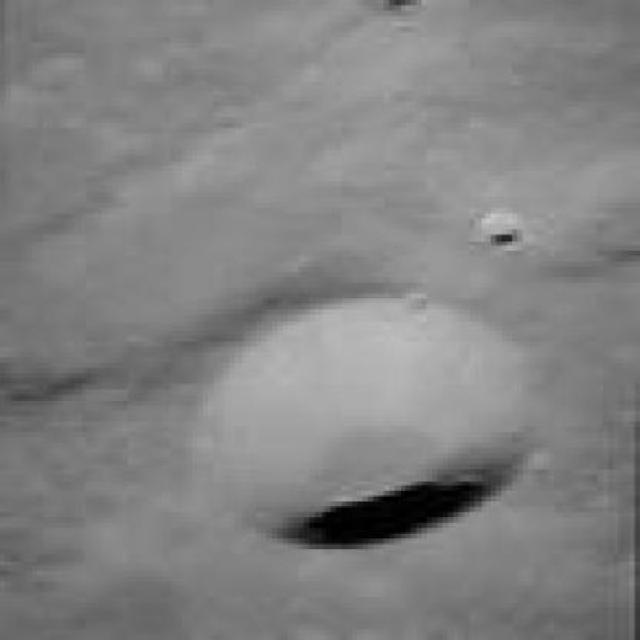crater: (198, 297, 547, 555), (476, 216, 518, 244)
